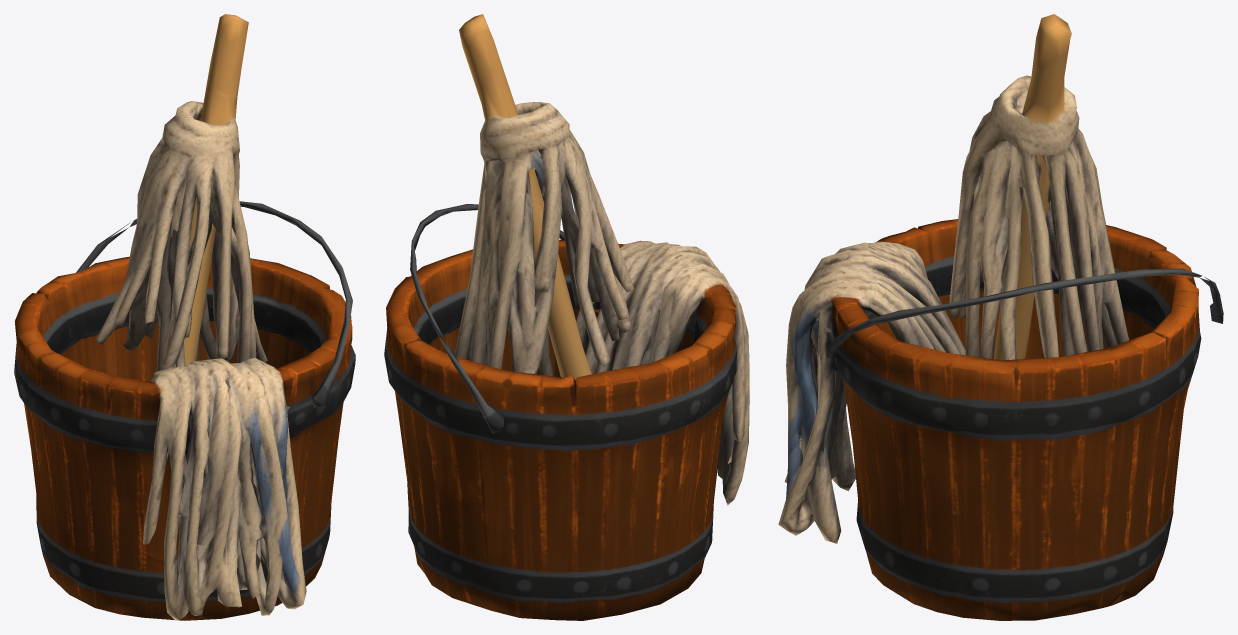
The model's file is bucket_mop.glb.
3 views of the same model, side by side, from view 1: azimuth 30°, elevation 25°; view 2: azimuth 150°, elevation 25°; view 3: azimuth 270°, elevation 25° (orthographic). The views are drawn at different scales.
Visible parts, largest first — view 1: world; view 2: world; view 3: world.
Boxes of the visible parts, x1,y1,x2,y2 form: world: (14,14,355,620); world: (384,14,749,620); world: (778,14,1223,620).
Bounding box in the file's own units: 0.5891 × 0.9971 × 0.6976.
Materials: 1 (1 with a texture image).
